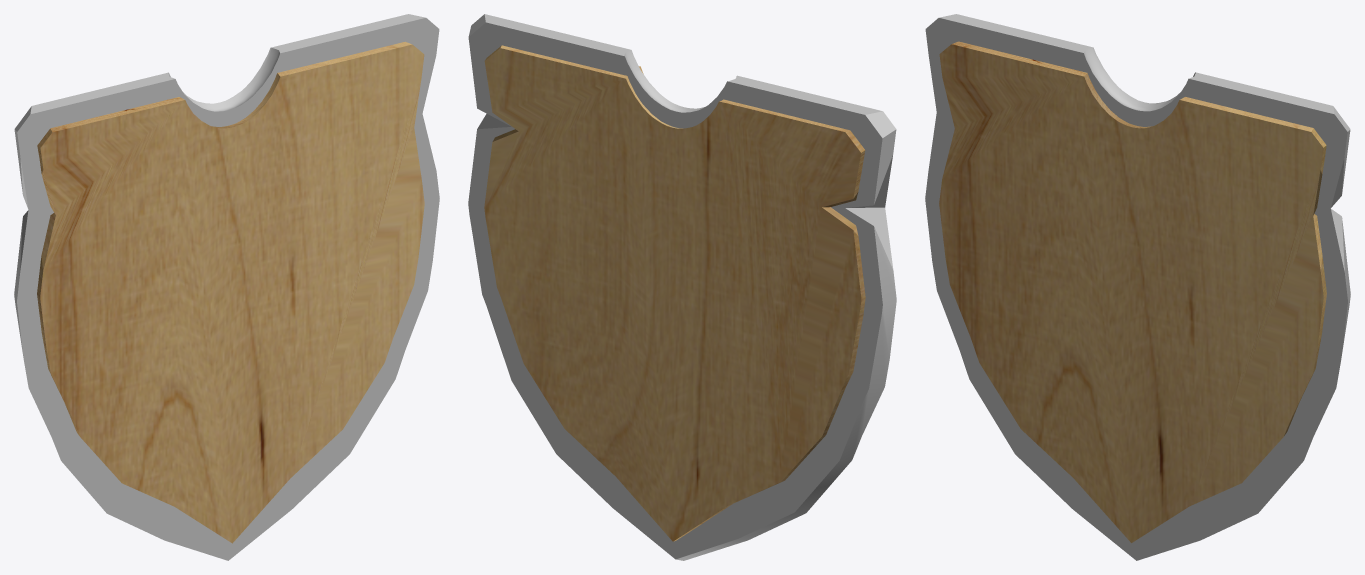
The model's file is Schild.fbx.
3 renders of one model, left to right at view 1: azimuth 30°, elevation 25°; view 2: azimuth 150°, elevation 25°; view 3: azimuth 330°, elevation 25°, orthographic.
Parts seen in each view (by area): view 1: polySurface3; view 2: polySurface3; view 3: polySurface3.
Boxes of the visible parts, left/top/right/bottom form: polySurface3: left=14, top=14, right=439, bottom=560; polySurface3: left=468, top=14, right=896, bottom=560; polySurface3: left=925, top=14, right=1350, bottom=560.
Size of the model in its own units: 2.86 by 3.2 by 0.188.
